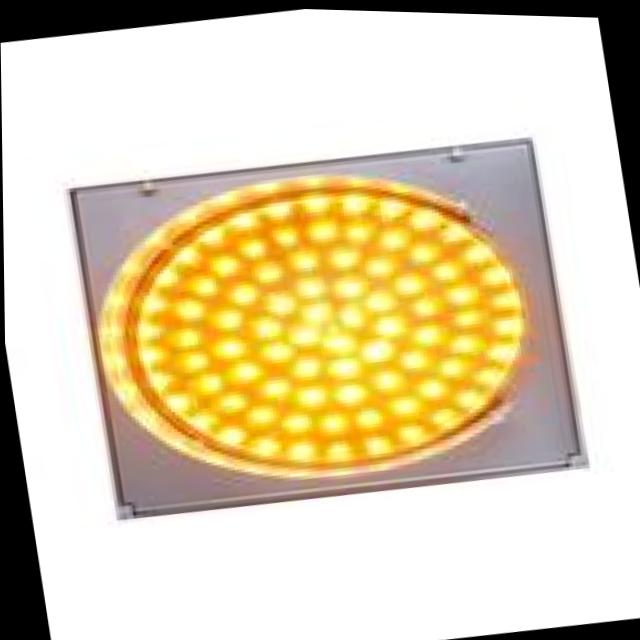yellow_light: (52, 93, 556, 548)
